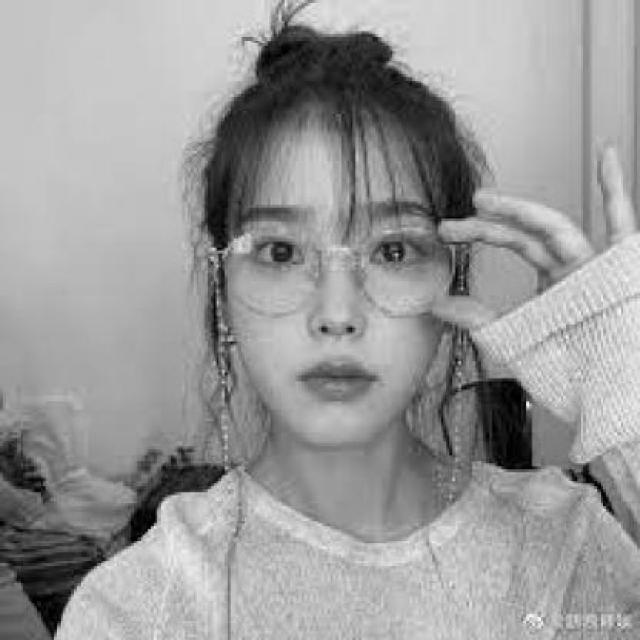Glasses: (176, 218, 482, 320)
